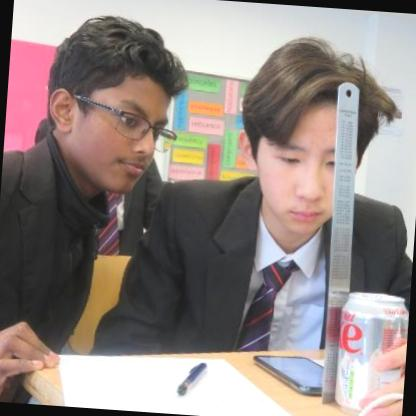alumunium_can: (330, 287, 410, 416)
